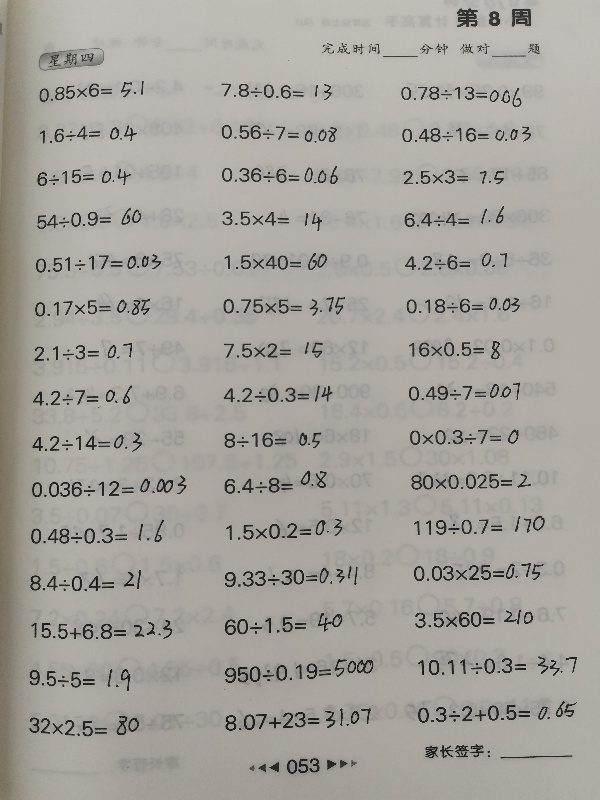equation: (27, 472, 190, 500), (415, 652, 581, 679), (413, 700, 580, 725), (26, 519, 167, 548), (27, 616, 176, 643), (221, 707, 375, 733), (220, 658, 378, 683), (220, 563, 361, 589), (215, 205, 332, 235), (219, 293, 348, 320), (396, 82, 525, 109), (409, 559, 547, 584), (220, 610, 346, 637), (409, 514, 548, 538), (31, 250, 164, 275), (25, 712, 142, 740), (26, 665, 134, 695), (218, 163, 342, 189), (25, 568, 144, 595), (29, 429, 146, 456), (397, 123, 534, 146), (222, 517, 346, 542), (30, 295, 153, 320), (407, 469, 534, 493), (220, 469, 331, 496), (29, 385, 136, 413), (404, 379, 523, 404), (217, 121, 340, 145), (218, 79, 336, 104), (402, 293, 523, 317), (411, 607, 536, 630), (221, 250, 331, 275), (406, 426, 523, 449), (33, 207, 145, 231), (35, 79, 147, 103), (400, 204, 507, 229), (405, 337, 504, 364), (220, 383, 335, 406), (30, 340, 136, 364), (401, 250, 510, 273), (221, 429, 325, 453), (400, 165, 508, 188), (220, 339, 327, 362), (32, 165, 134, 189), (36, 122, 140, 145)
